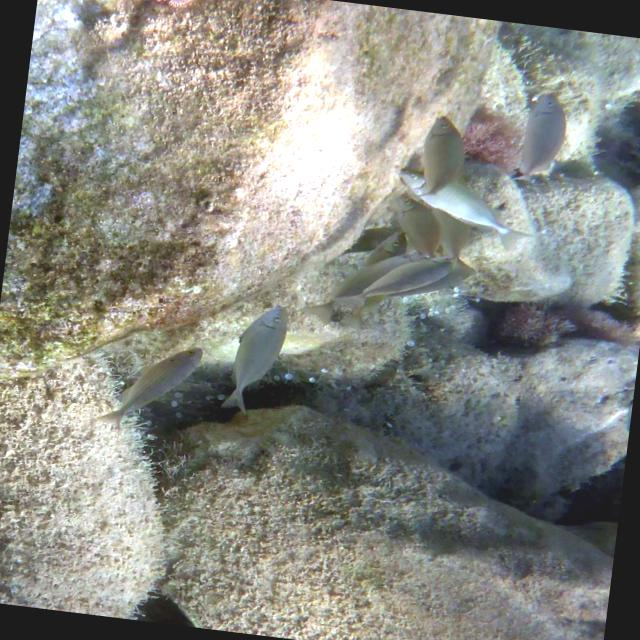Sokar Baligi: (84, 326, 212, 440), (207, 294, 299, 425), (502, 76, 590, 204)
